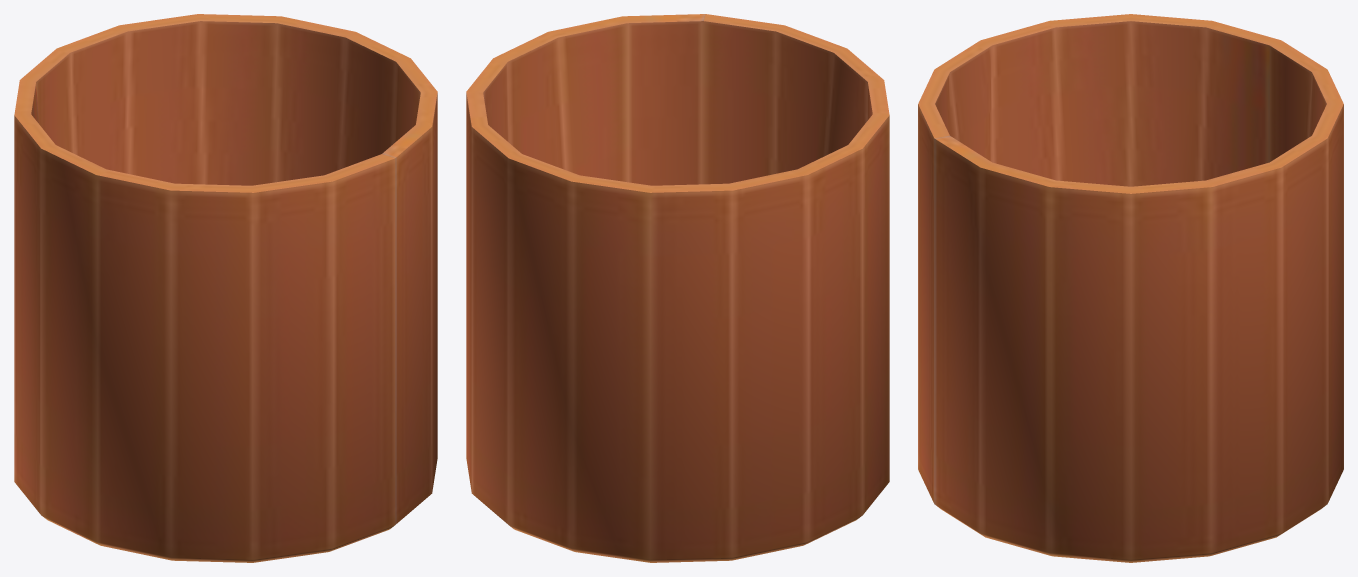
Rendered from tub.glb.
The picture shows the model from 3 angles, left to right: view 1: azimuth 30°, elevation 25°; view 2: azimuth 150°, elevation 25°; view 3: azimuth 270°, elevation 25°; orthographic projection.
Parts seen in each view (by area): view 1: JarWood.001; view 2: JarWood.001; view 3: JarWood.001.
Part boxes in pixels (left/top/right/bottom): JarWood.001: left=14, top=14, right=437, bottom=562; JarWood.001: left=466, top=14, right=889, bottom=562; JarWood.001: left=918, top=14, right=1343, bottom=562.
Bounding box in the file's own units: 0.8987 × 0.8667 × 0.8987.
1 material, 1 textured.
